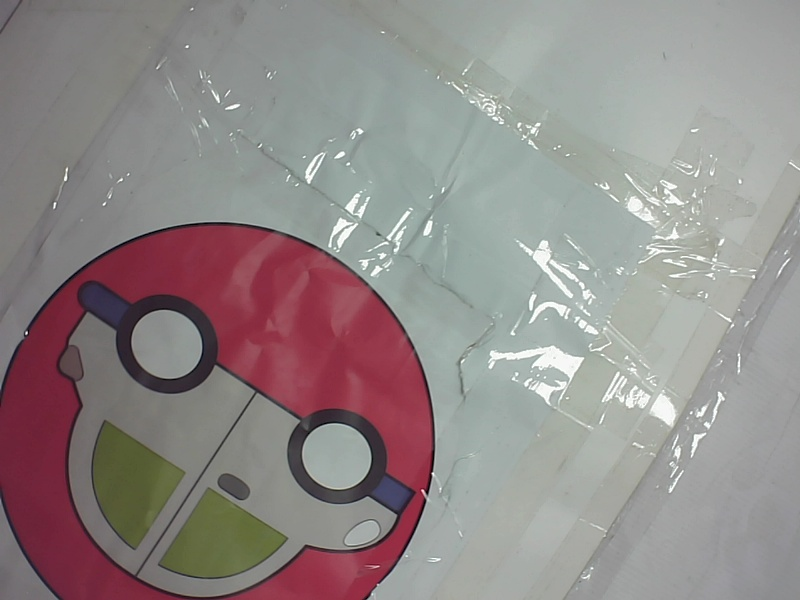areaC: (11, 217, 437, 593)
